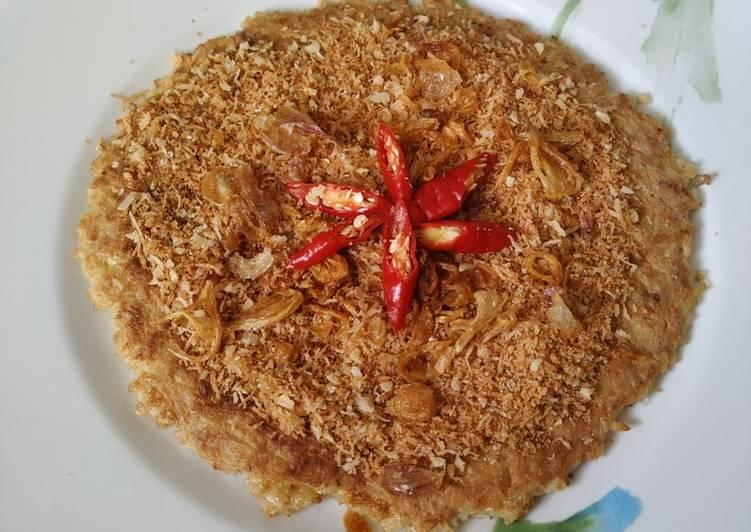kerak_telor: (77, 1, 702, 532)
